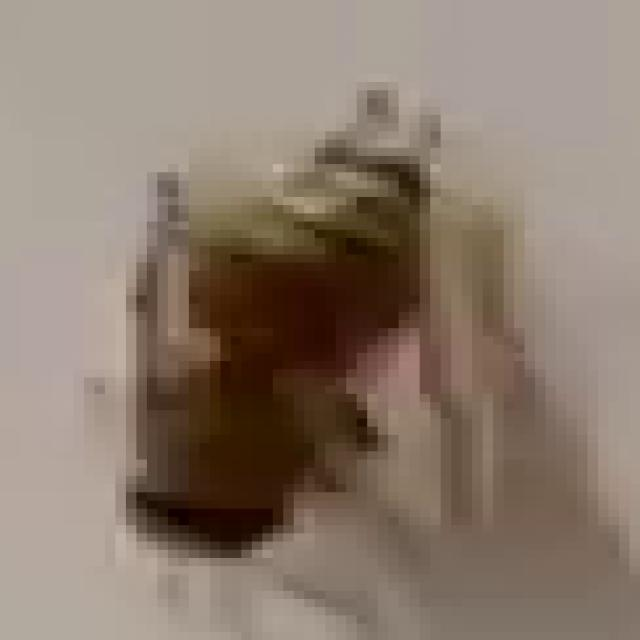honeybee: (105, 87, 466, 551)
